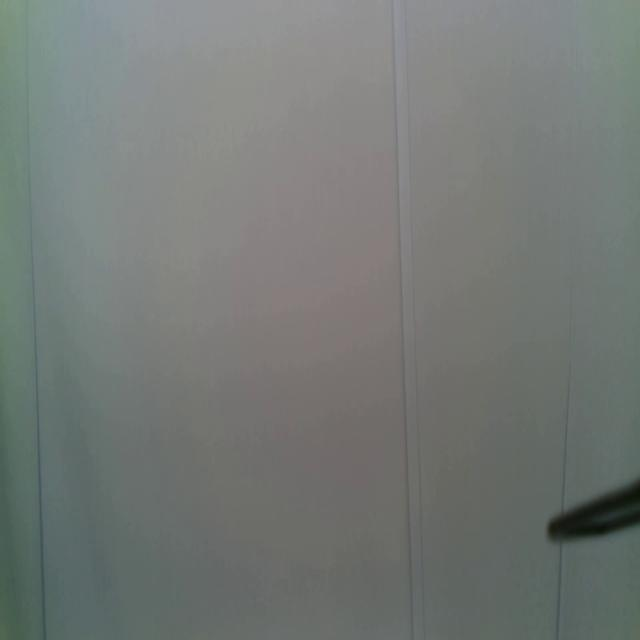crease: (391, 0, 415, 640), (25, 0, 47, 640), (404, 0, 426, 640), (562, 259, 576, 505), (554, 542, 566, 640)
